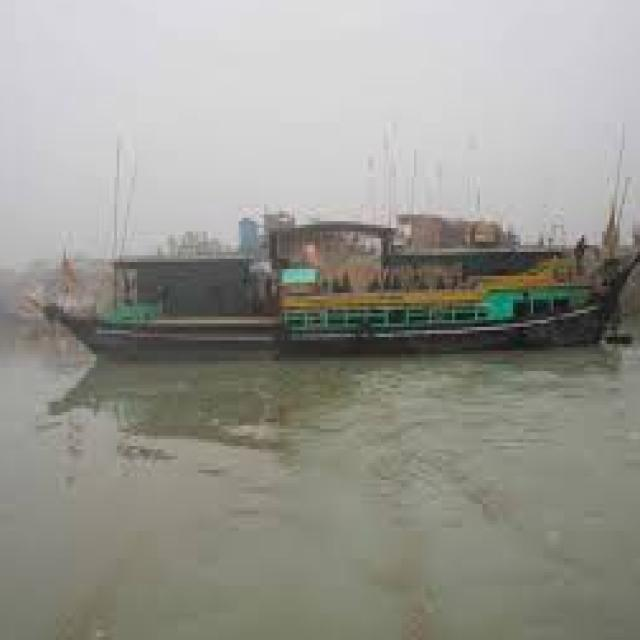cargoship: (46, 187, 618, 353)
